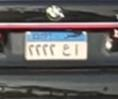2: (48, 44, 57, 56), (28, 44, 35, 57), (42, 44, 49, 56), (36, 44, 41, 57)
ain: (61, 44, 71, 58)
alif: (72, 44, 81, 57)
